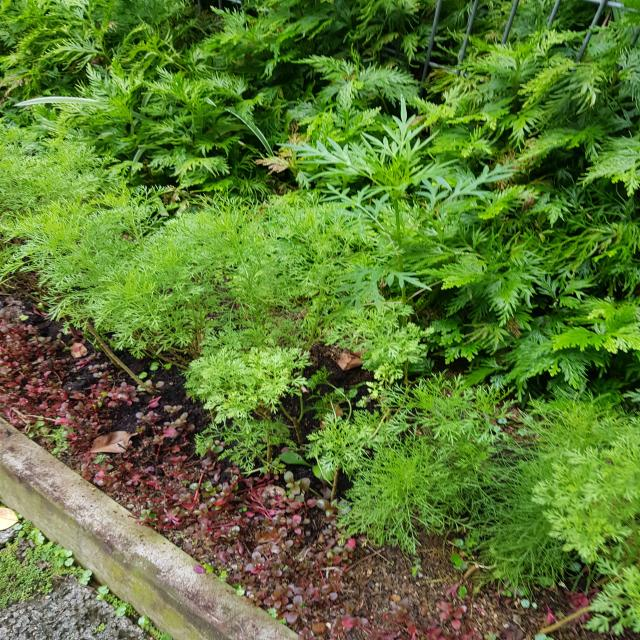Dill: (74, 206, 398, 459), (6, 133, 169, 318)
